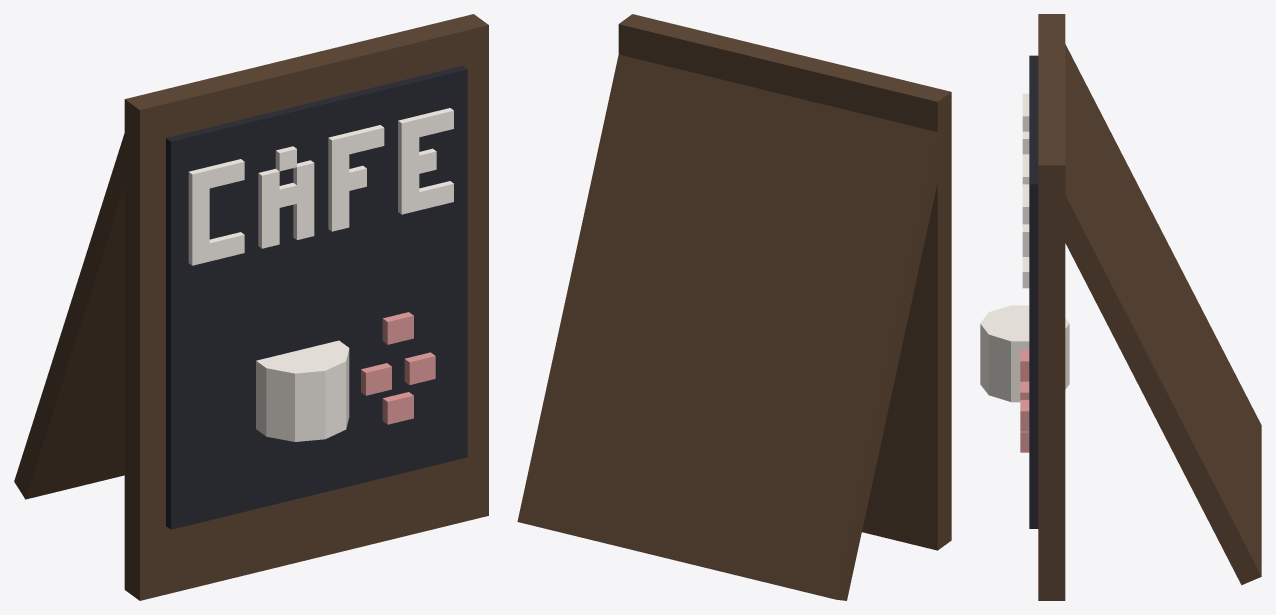
File: CatCafe_Plot_Tier1.glb
The picture shows the model from 3 angles, left to right: view 1: azimuth 30°, elevation 25°; view 2: azimuth 150°, elevation 25°; view 3: azimuth 270°, elevation 25°; orthographic projection. The views are drawn at different scales.
Parts seen in each view (by area): view 1: CatCafe_Plot_Tier1; view 2: CatCafe_Plot_Tier1; view 3: CatCafe_Plot_Tier1.
Part boxes in pixels (bbox=[...]): CatCafe_Plot_Tier1: bbox=[14, 14, 488, 600]; CatCafe_Plot_Tier1: bbox=[517, 14, 951, 600]; CatCafe_Plot_Tier1: bbox=[980, 14, 1261, 600].
Size of the model in its own units: 1.6 by 2.15 by 1.26.
1 material, 1 textured.
